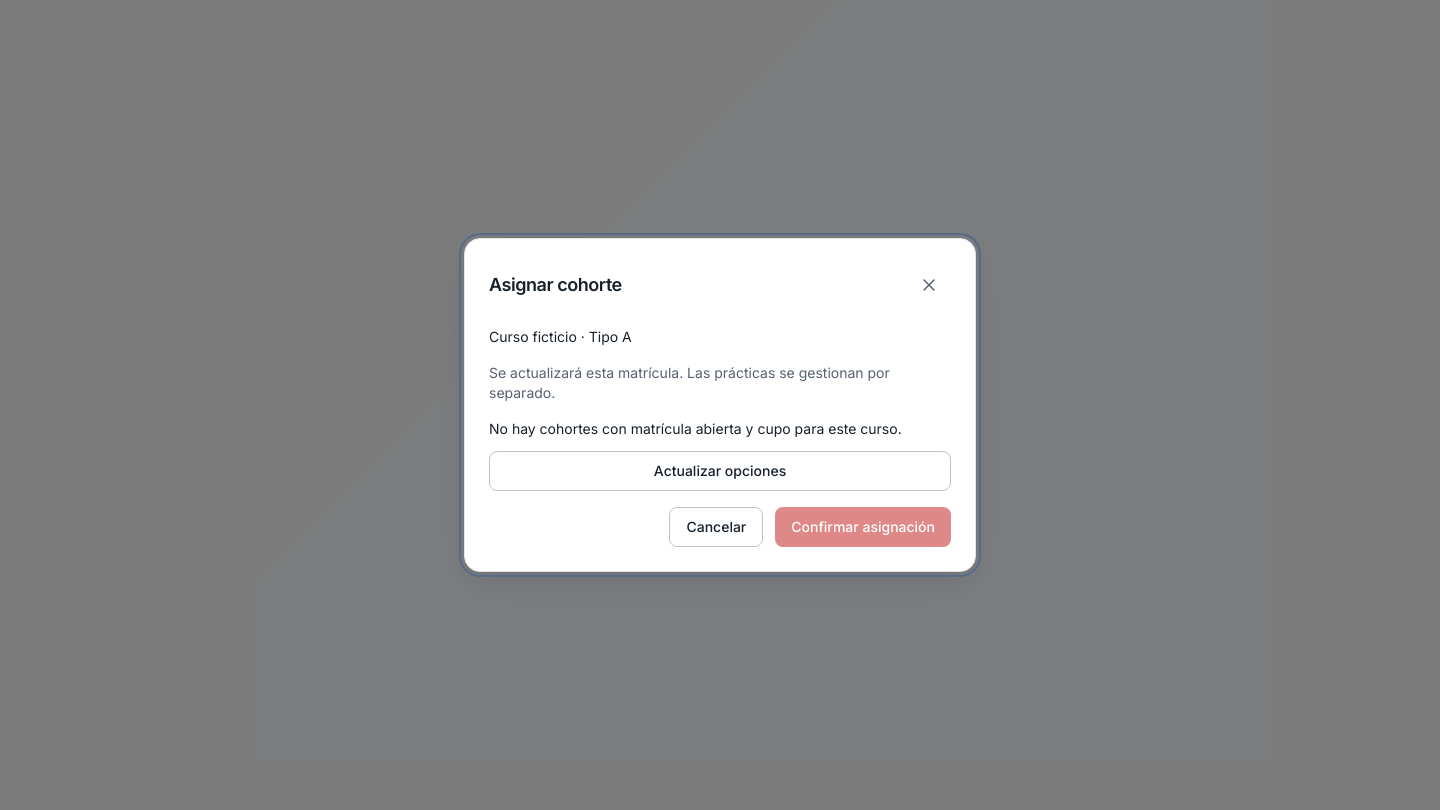
modal C › sin opciones muestra mensaje y actualiza solo por botón
Expected: the text "No hay cohortes" is shown, [489,420,902,437]
Expected: the button "Confirmar asignación" is disabled, [775,507,951,547]
Click the button "Actualizar opciones" at (720, 471), box [489,451,951,491]
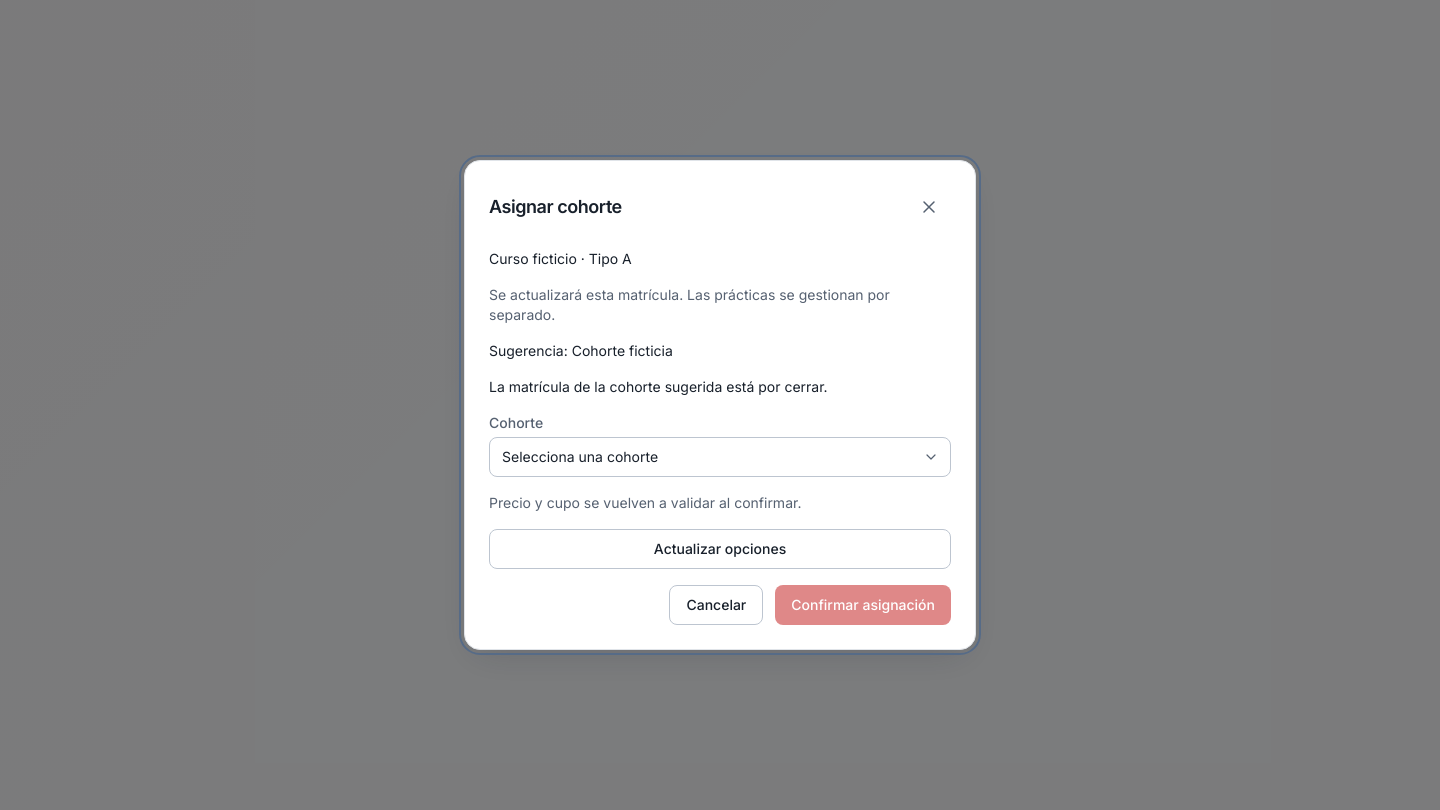
Result: the dropdown labelled "Cohorte" is shown at [489,437,951,477]
